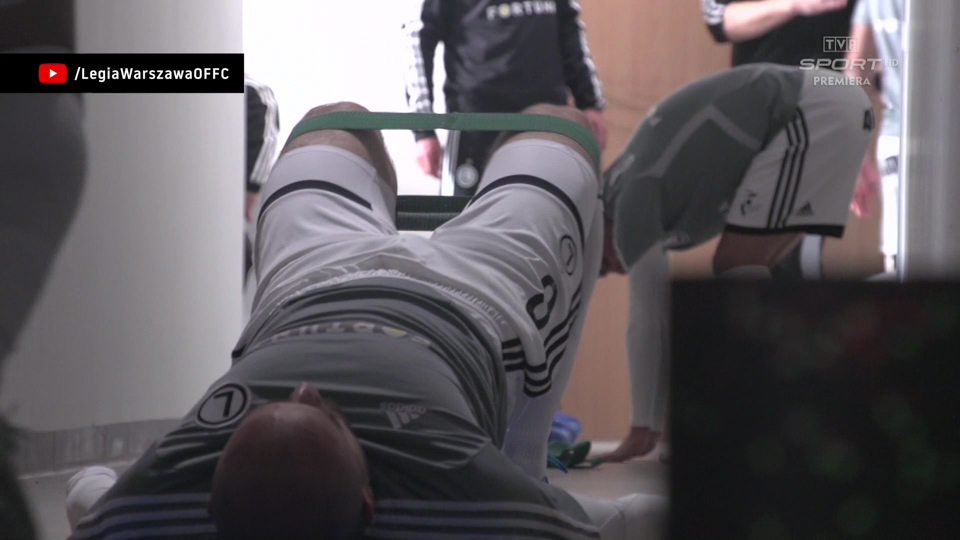Adidas: (378, 398, 426, 431)
